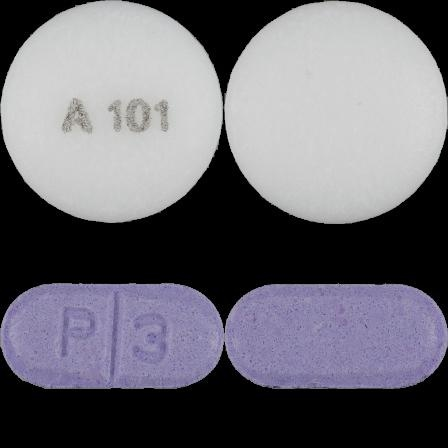50090-1372: (0, 0, 224, 224)
